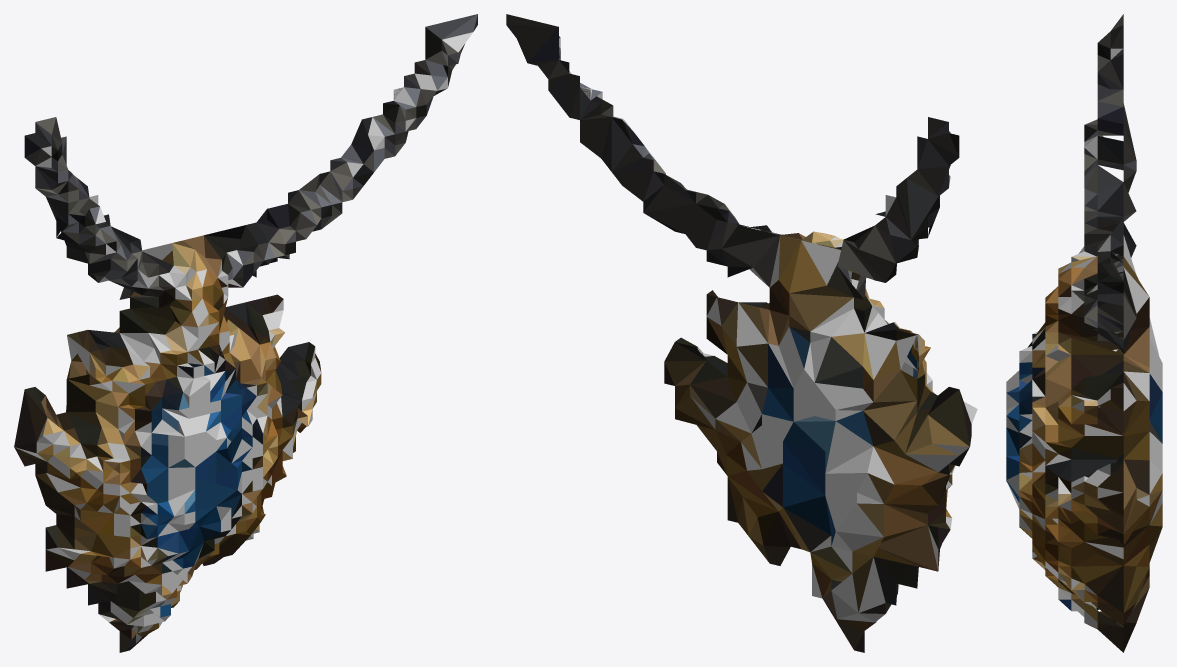
Rendered from B13_3_sapphire_amulet.obj.
The picture shows the model from 3 angles, left to right: view 1: azimuth 30°, elevation 25°; view 2: azimuth 150°, elevation 25°; view 3: azimuth 270°, elevation 25°; orthographic projection. The views are drawn at different scales.
Parts seen in each view (by area): view 1: B13_3_sapphire_amulet; view 2: B13_3_sapphire_amulet; view 3: B13_3_sapphire_amulet.
Boxes of the visible parts, <box> form: B13_3_sapphire_amulet: <box>14,14,477,652</box>; B13_3_sapphire_amulet: <box>506,14,977,652</box>; B13_3_sapphire_amulet: <box>1006,14,1162,652</box>.
Size of the model in its own units: 44 by 50 by 12.
